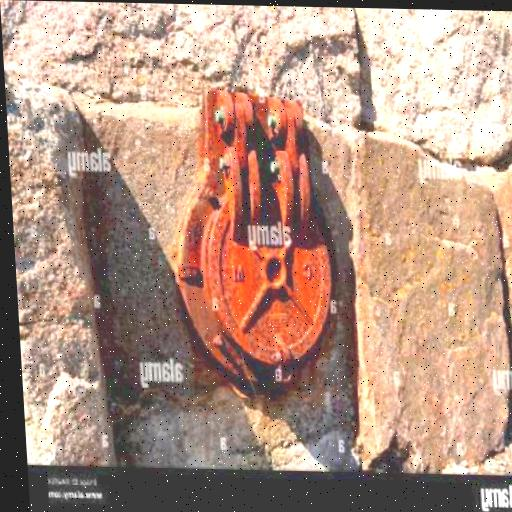corrosion: (157, 91, 349, 395)
